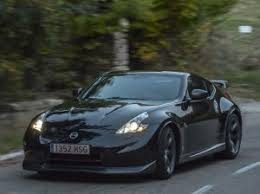Nissan: (22, 73, 233, 171)
